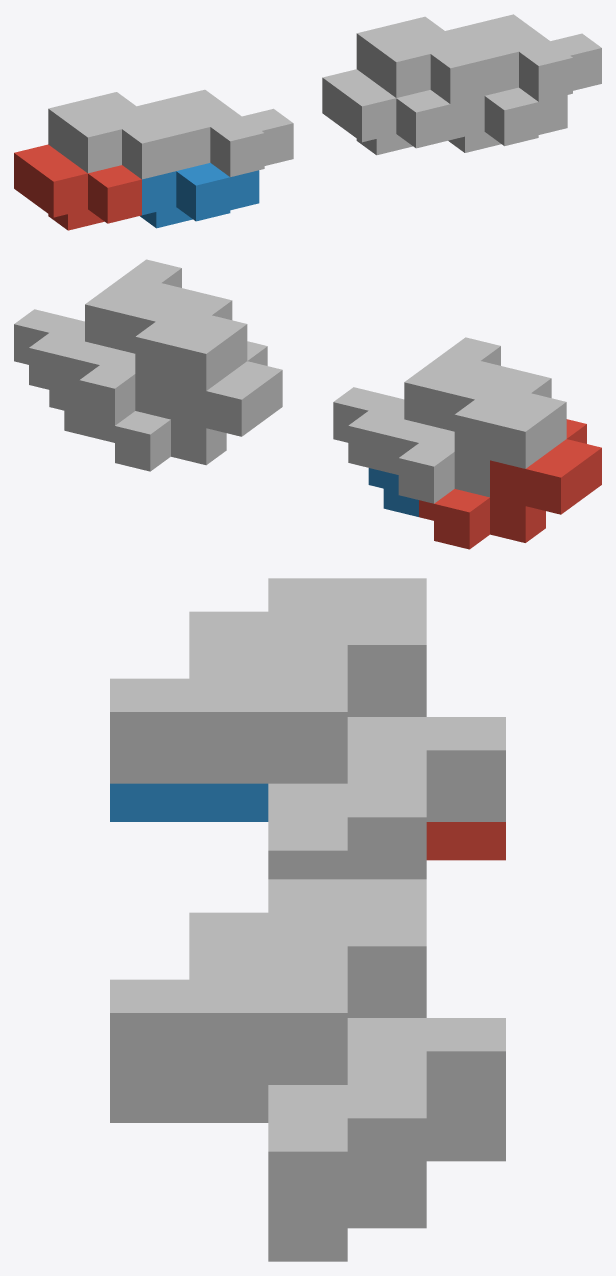
Rendered from tiling.obj.
3 views of the same model, one above another, from view 1: azimuth 30°, elevation 25°; view 2: azimuth 150°, elevation 25°; view 3: azimuth 270°, elevation 25° (orthographic). The views are drawn at different scales.
Parts seen in each view (by area): view 1: copy_1_domain_4, copy_1_domain_8, copy_1_domain_3, copy_1_domain_7, copy_1_domain_5, copy_1_domain_1, copy_1_domain_2, copy_1_domain_6; view 2: copy_1_domain_7, copy_1_domain_3, copy_1_domain_1, copy_1_domain_5, copy_1_domain_4, copy_1_domain_8, copy_1_domain_2, copy_1_domain_6; view 3: copy_1_domain_8, copy_1_domain_4, copy_1_domain_7, copy_1_domain_3, copy_1_domain_6, copy_1_domain_2, copy_1_domain_1, copy_1_domain_5.
Boxes of the visible parts, left/top/right/bottom form: copy_1_domain_4: left=137, top=89, right=293, bottom=177; copy_1_domain_8: left=445, top=14, right=601, bottom=101; copy_1_domain_3: left=48, top=92, right=176, bottom=179; copy_1_domain_7: left=356, top=16, right=484, bottom=103; copy_1_domain_5: left=322, top=69, right=450, bottom=155; copy_1_domain_1: left=14, top=144, right=141, bottom=230; copy_1_domain_2: left=140, top=163, right=259, bottom=228; copy_1_domain_6: left=448, top=87, right=567, bottom=152; copy_1_domain_7: left=64, top=292, right=247, bottom=425; copy_1_domain_3: left=383, top=369, right=566, bottom=503; copy_1_domain_1: left=419, top=419, right=601, bottom=549; copy_1_domain_5: left=100, top=341, right=282, bottom=471; copy_1_domain_4: left=333, top=337, right=515, bottom=471; copy_1_domain_8: left=14, top=259, right=196, bottom=393; copy_1_domain_2: left=368, top=468, right=418, bottom=516; copy_1_domain_6: left=49, top=390, right=99, bottom=439; copy_1_domain_8: left=110, top=946, right=426, bottom=1223; copy_1_domain_4: left=110, top=645, right=426, bottom=879; copy_1_domain_7: left=189, top=879, right=505, bottom=1122; copy_1_domain_3: left=189, top=578, right=505, bottom=821; copy_1_domain_6: left=110, top=1085, right=426, bottom=1261; copy_1_domain_2: left=110, top=783, right=268, bottom=821; copy_1_domain_1: left=426, top=822, right=505, bottom=860; copy_1_domain_5: left=426, top=1123, right=505, bottom=1161.
Bounding box in the file's own units: 16 × 3 × 5.
